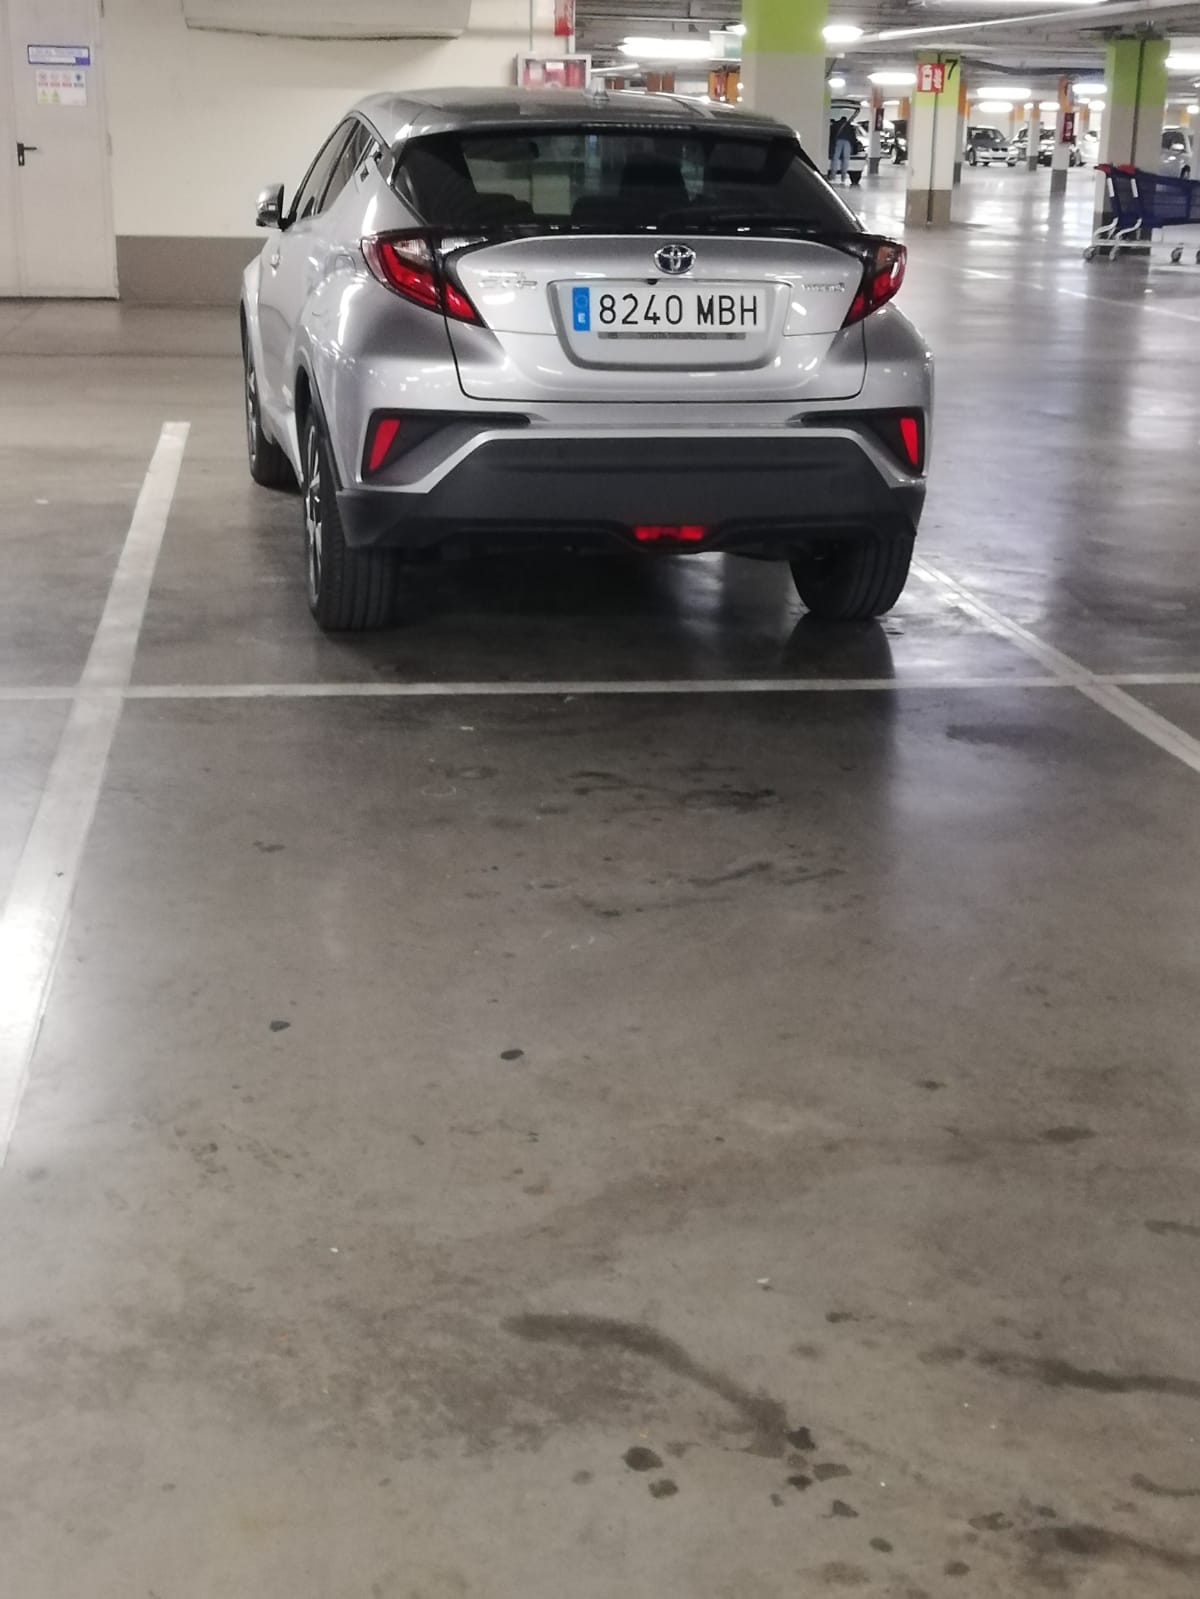Car: (237, 84, 936, 621)
Plate: (569, 285, 762, 333)
